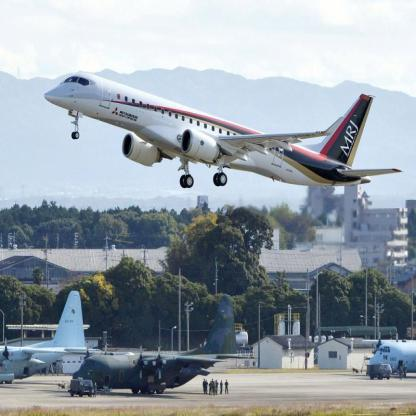CIV_Plane: (39, 61, 404, 206)
